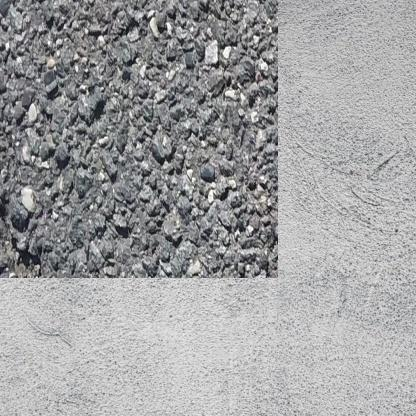Cracks: (0, 177, 47, 257)
